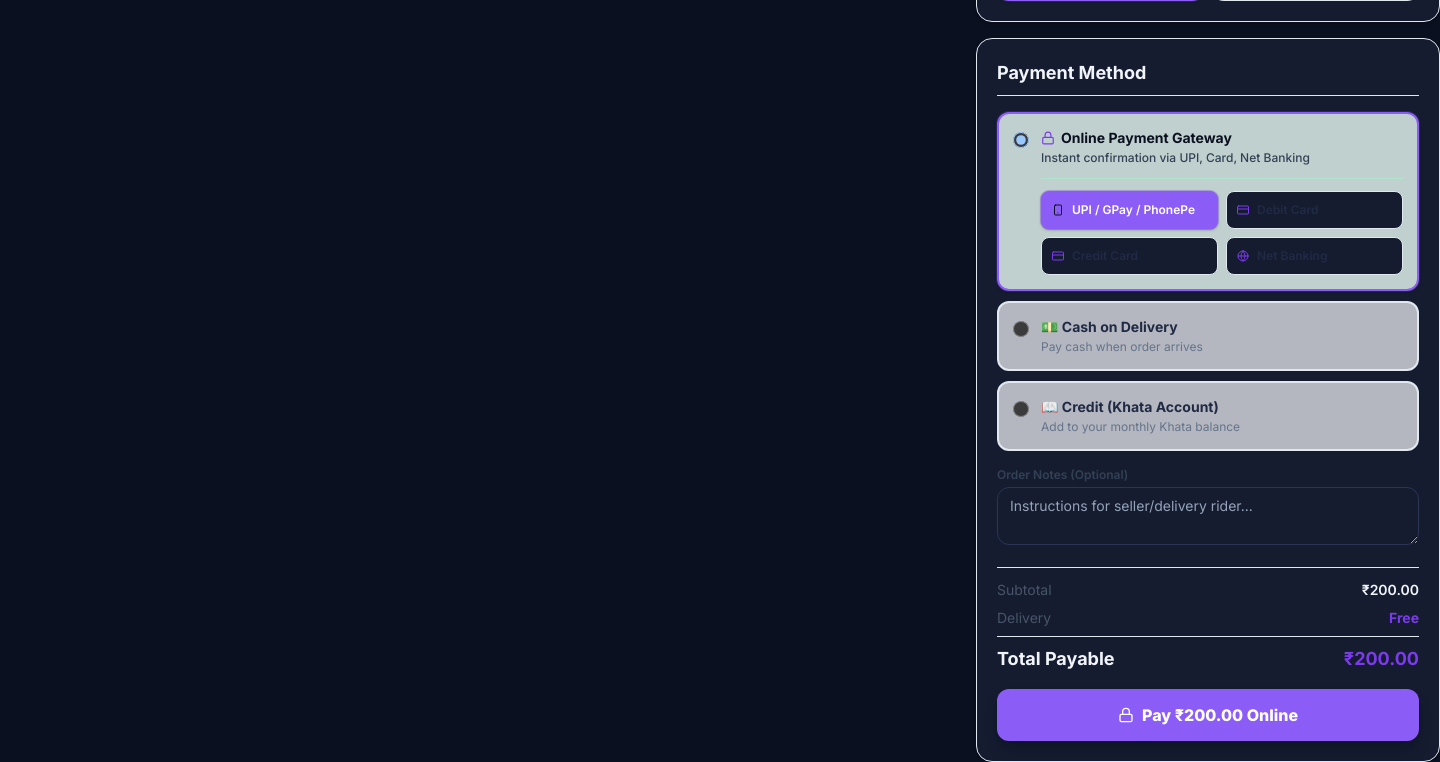
Scenario: Cart place-order duplicate protection › clears the cart and returns a duplicate-order-safe null cart even on payment success path
This screenshot has width=1440, height=762.
(page scrolled)
Click the button "Pay ₹200.00 Online" at (1208, 715), box [997,689,1419,741]
(page scrolled)
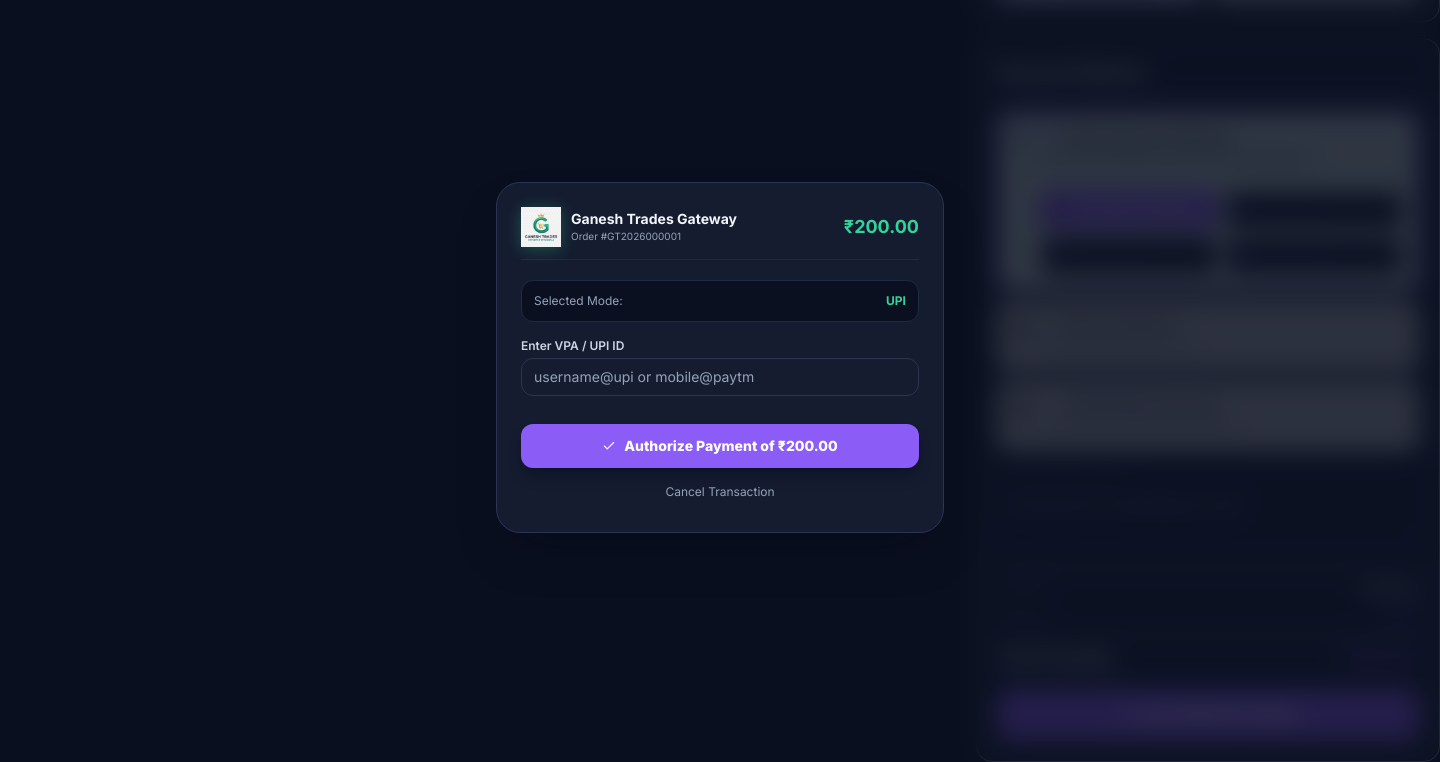
expect the heading "Ganesh Trades Gateway" is shown: met, box [571,209,737,229]
